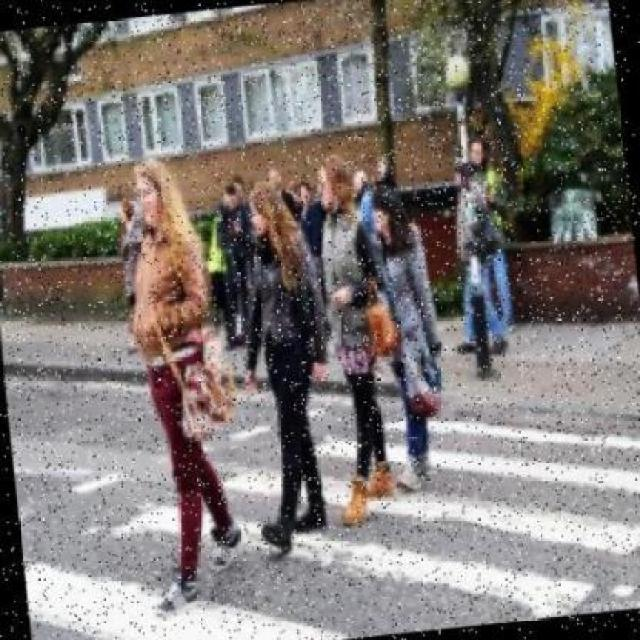sem_oculos: (130, 180, 171, 207), (308, 172, 336, 202), (247, 197, 270, 224)
